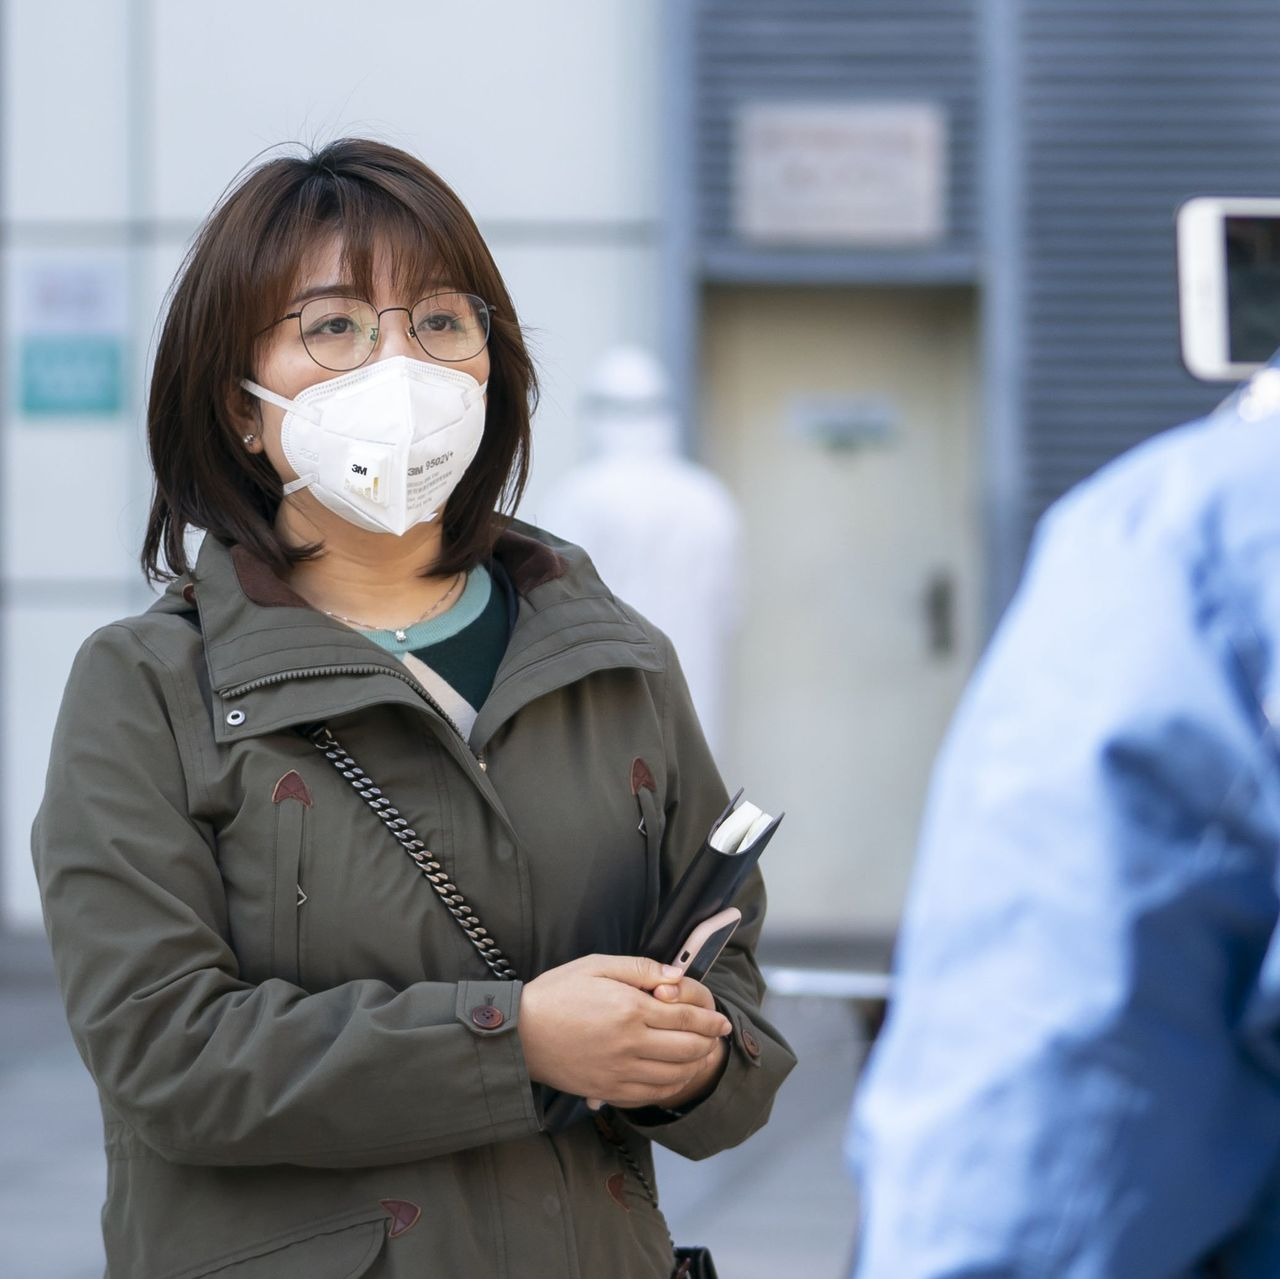n95: (250, 348, 507, 544)
